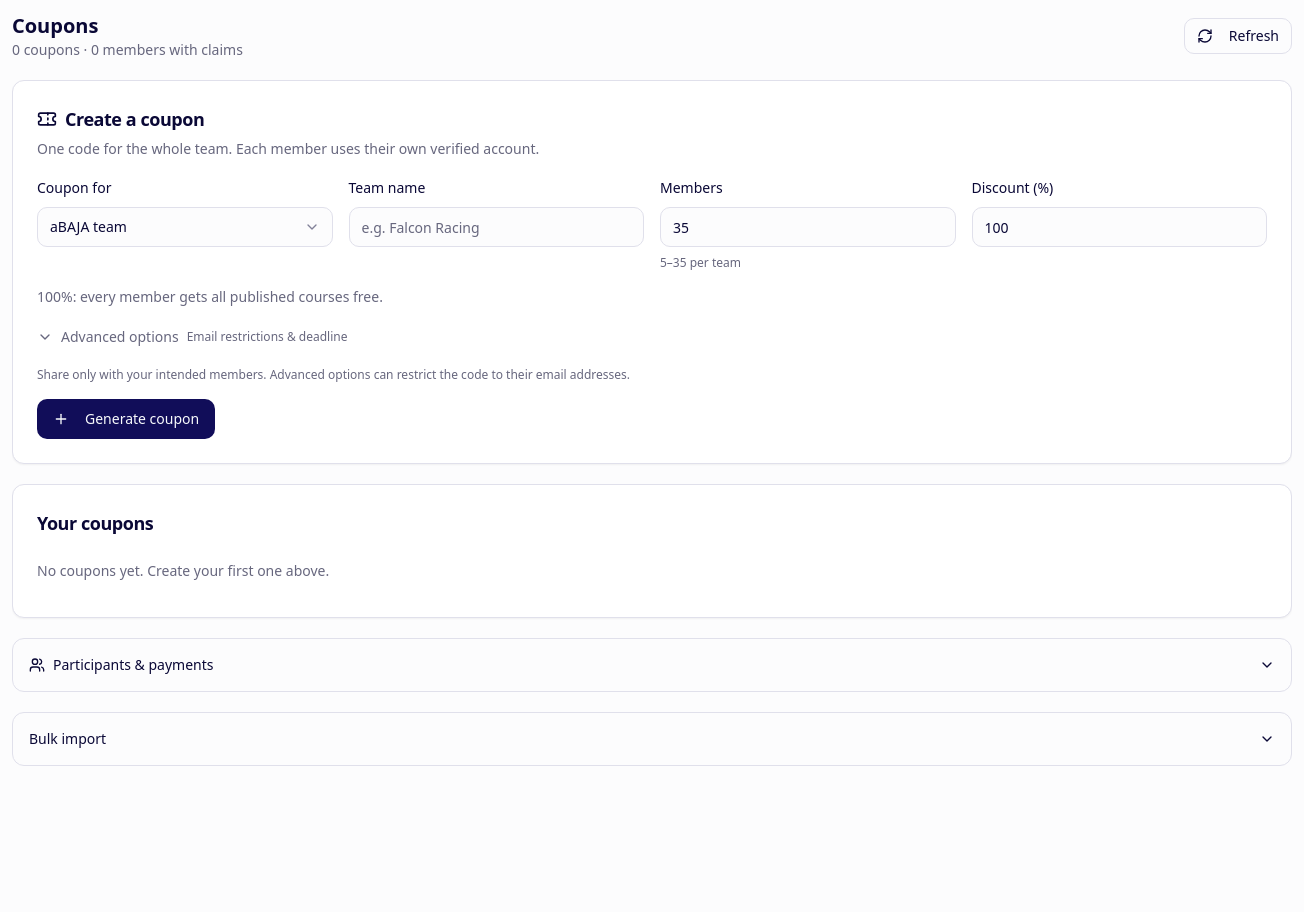
Scenario: admin percentage coupon creation › defaults to 100% and submits the chosen percentage while letting the database generate the code
The image size is (1304, 912).
Expected: the button "Generate coupon" is enabled, [37, 399, 215, 439]
Expected: the number field labelled "Discount (%)" holds "100", [972, 207, 1267, 247]
Type "Racing Team" into the field labelled "Team name". click: {"x": 496, "y": 227}
box: [348, 207, 644, 247]
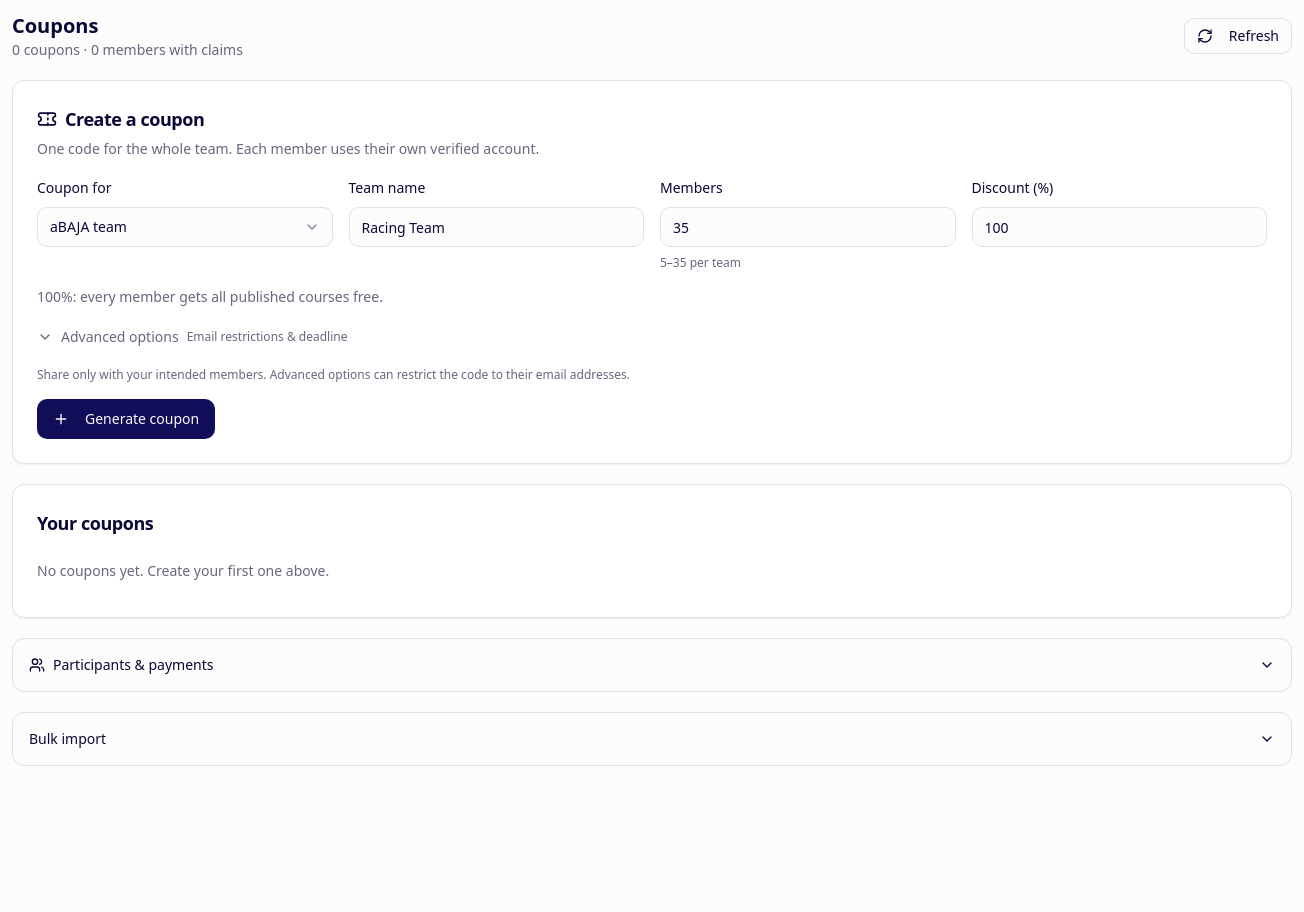
Replace the text in the number field labelled "Discount (%)" with "25.5". click: {"x": 1119, "y": 227}
box: [972, 207, 1267, 247]
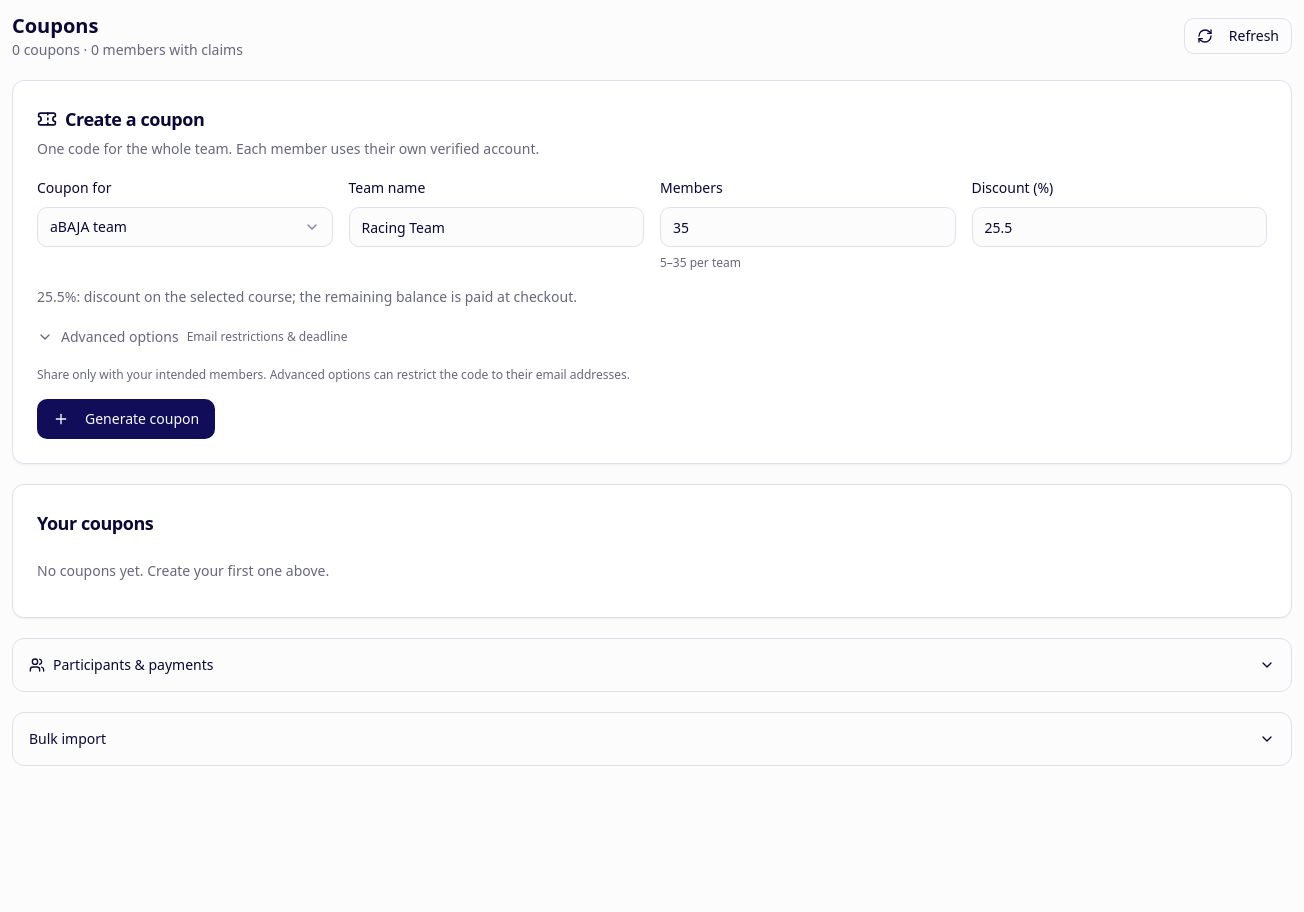
Click the button "Generate coupon". click: {"x": 126, "y": 419}
box: [37, 399, 215, 439]
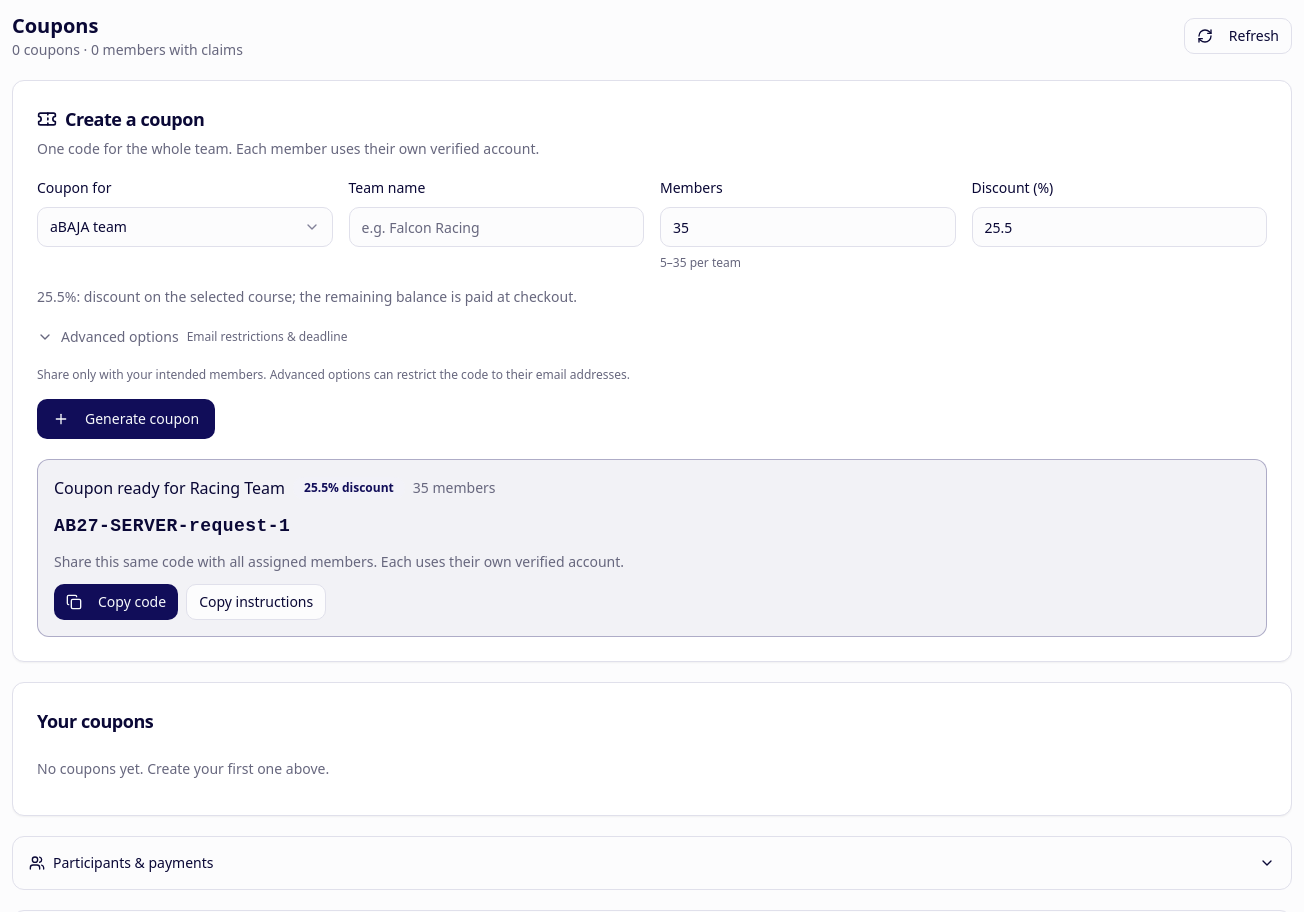
Now the text "AB27-SERVER-request-1" is shown, box [54, 516, 290, 536]
Now the text "25.5% discount" is shown, box [293, 477, 405, 499]
Now the button "Copy code" is shown, box [54, 584, 178, 620]
